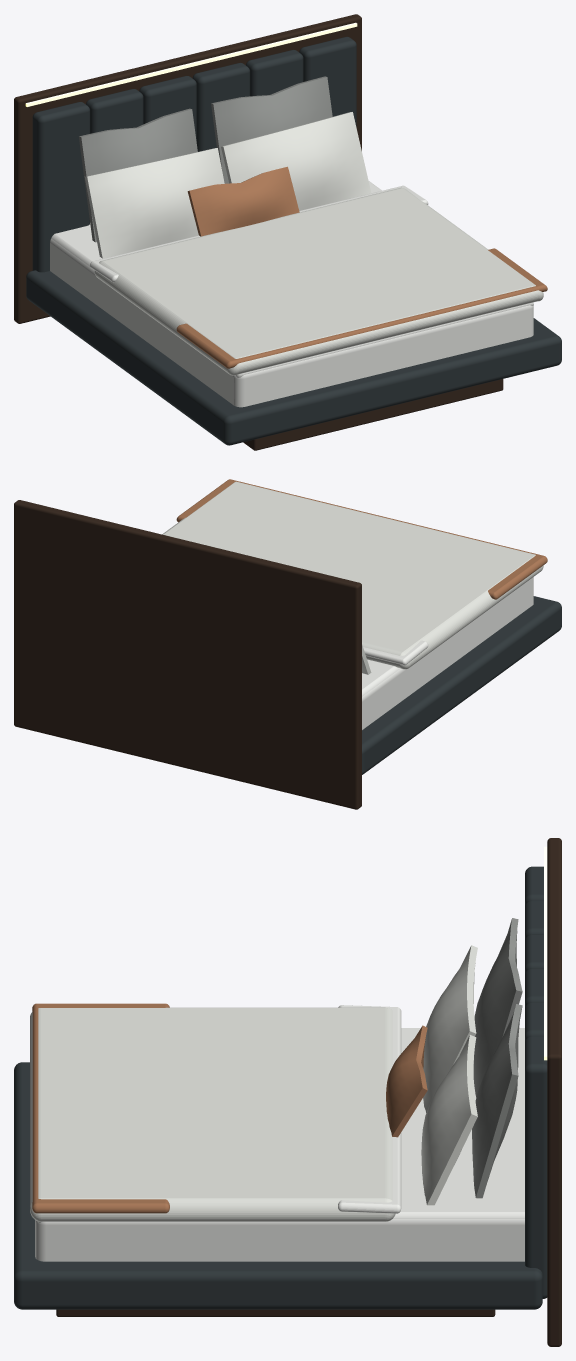
File: atelier-bed-platform-graphite.glb
The picture shows the model from 3 angles, top to bottom: view 1: azimuth 30°, elevation 25°; view 2: azimuth 150°, elevation 25°; view 3: azimuth 270°, elevation 25°; orthographic projection. The views are drawn at different scales.
Bounding box in the file's own units: 1.96 × 1.22 × 2.07.
